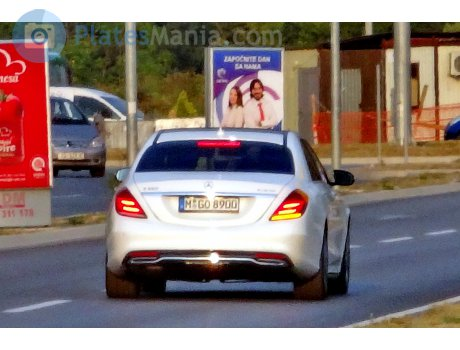License Plates: (182, 195, 239, 208)
